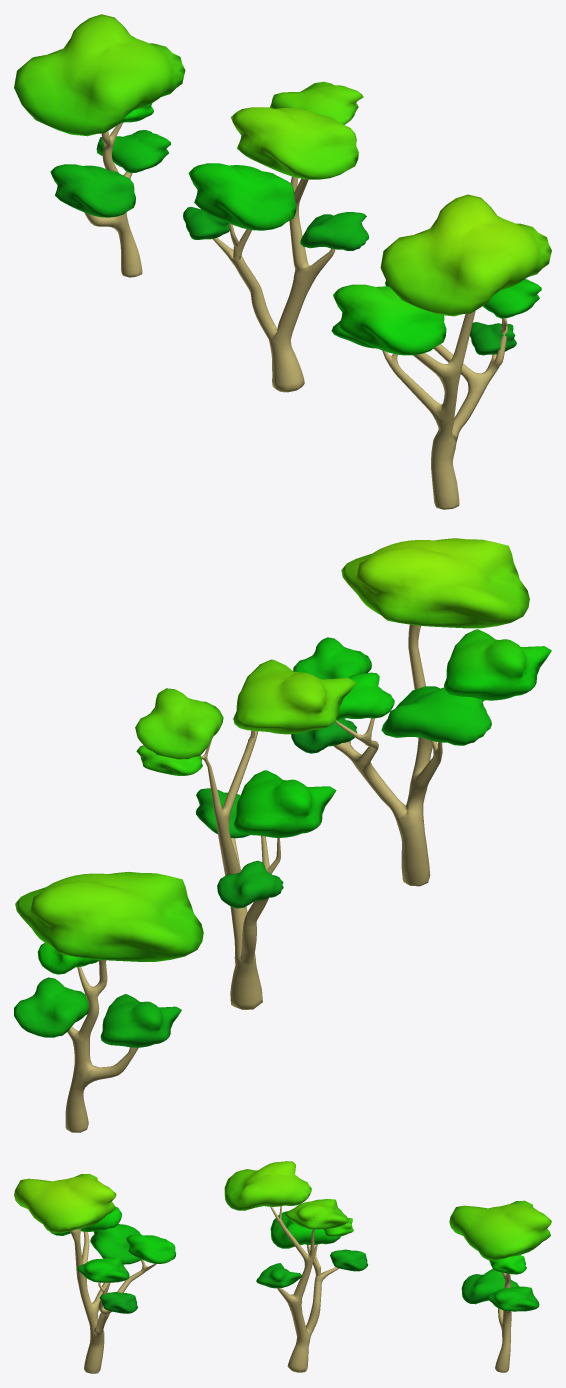
The model's file is Map3_bo2.fbx.
3 views of the same model, one above another, from view 1: azimuth 30°, elevation 25°; view 2: azimuth 150°, elevation 25°; view 3: azimuth 270°, elevation 25° (orthographic). The views are drawn at different scales.
Visible parts, largest first — view 1: Tree.010, Tree.011, Tree.015; view 2: Tree.010, Tree.011, Tree.015; view 3: Tree.010, Tree.011, Tree.015.
Part boxes in pixels (x1,y1,x2,y2): Tree.010: (331, 194, 551, 509); Tree.011: (183, 81, 368, 392); Tree.015: (14, 14, 185, 277); Tree.010: (291, 538, 551, 886); Tree.011: (135, 659, 356, 1009); Tree.015: (14, 872, 203, 1132); Tree.010: (14, 1173, 176, 1373); Tree.011: (224, 1161, 367, 1372); Tree.015: (449, 1200, 551, 1372).
Bounding box in the file's own units: 372 × 525 × 1313.
1 material, 1 textured.
